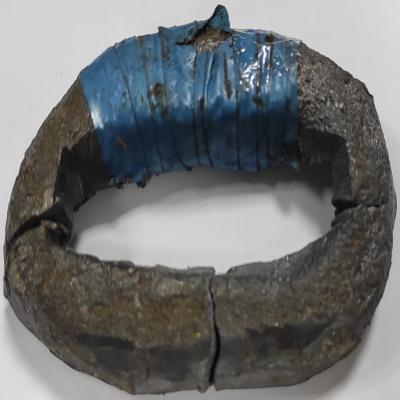weapon: (3, 8, 398, 396)
